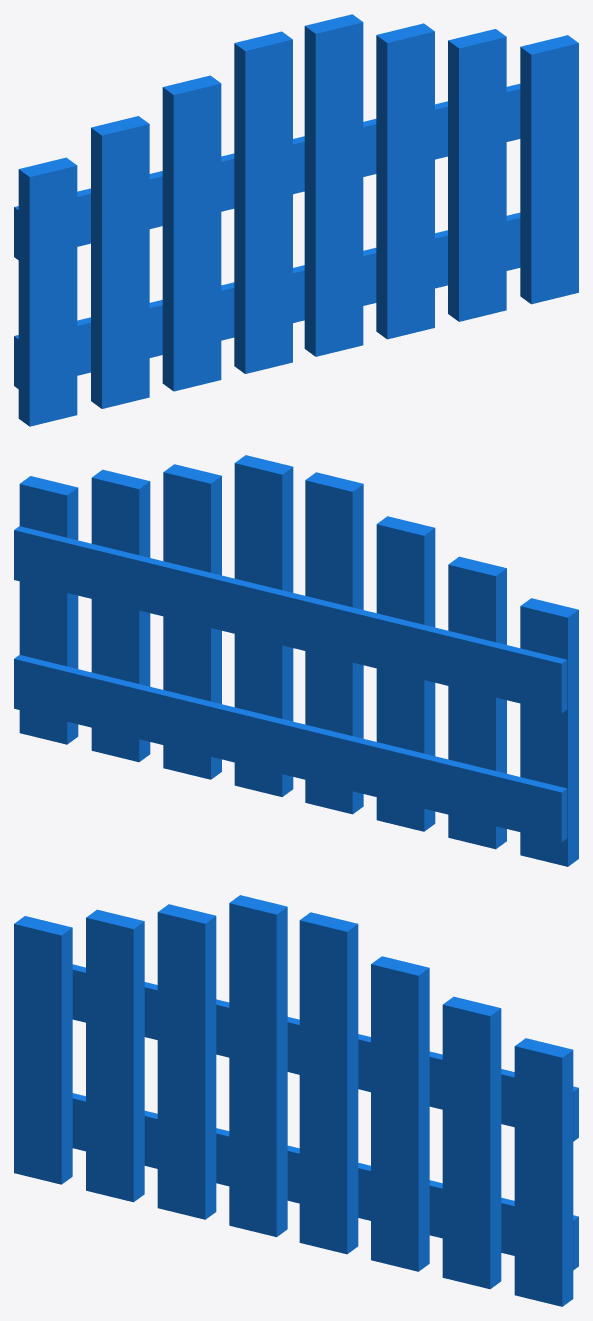
The model's file is canceletto.fbx.
3 views of the same model, one above another, from view 1: azimuth 30°, elevation 25°; view 2: azimuth 150°, elevation 25°; view 3: azimuth 330°, elevation 25° (orthographic).
Parts seen in each view (by area): view 1: Cube.002; view 2: Cube.002; view 3: Cube.002.
Boxes of the visible parts, bbox=[...] form: Cube.002: bbox=[14, 14, 578, 426]; Cube.002: bbox=[14, 455, 578, 866]; Cube.002: bbox=[14, 895, 578, 1306].
Bounding box in the file's own units: 230 × 129 × 12.02.
